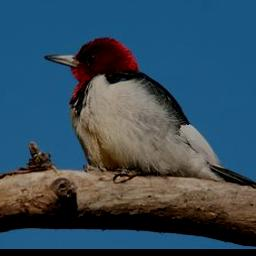Woodpecker: (43, 37, 256, 188)
